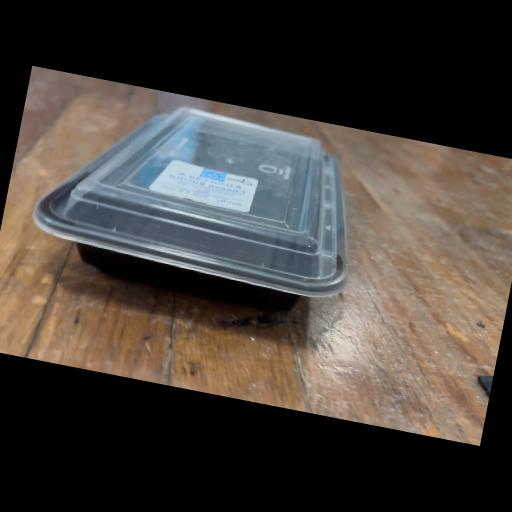rigid_plastic_container: (19, 80, 376, 330)
